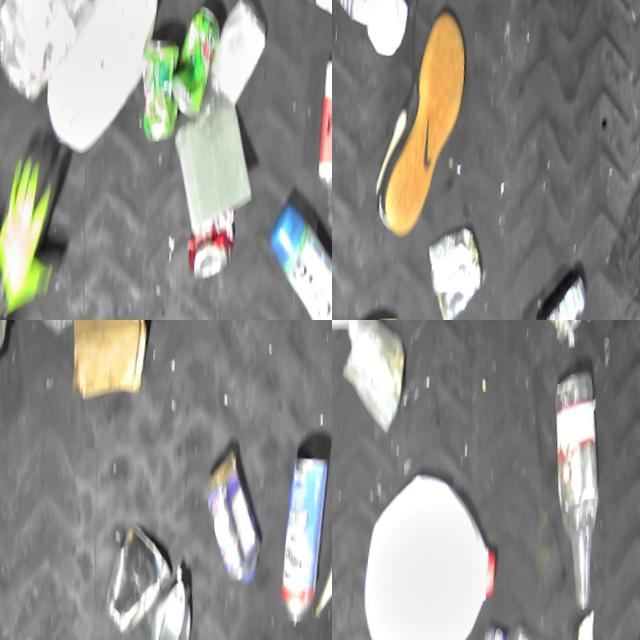can: (274, 450, 332, 637), (332, 320, 415, 449), (103, 520, 190, 640), (167, 7, 234, 127), (135, 36, 194, 152), (427, 229, 496, 320), (190, 213, 251, 287), (150, 569, 211, 640)
milk_jug: (352, 461, 517, 640), (35, 0, 182, 162)
plastic_bottle: (537, 373, 619, 625)
